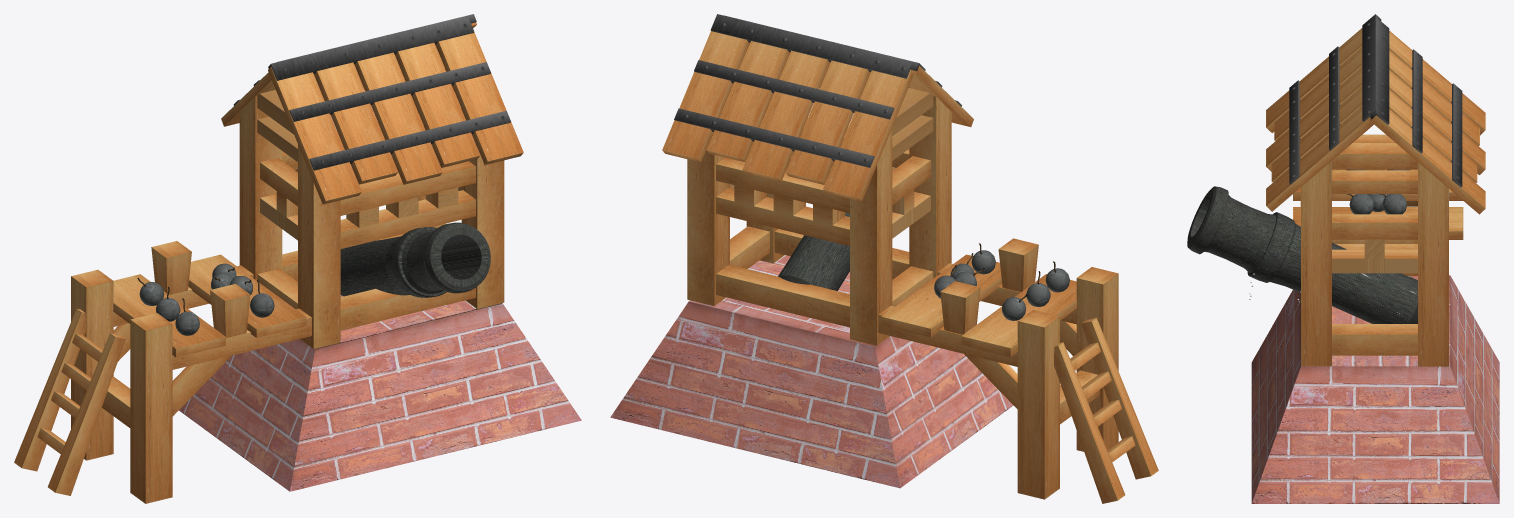
File: paota.fbx
3 views of the same model, side by side, from view 1: azimuth 30°, elevation 25°; view 2: azimuth 150°, elevation 25°; view 3: azimuth 270°, elevation 25° (orthographic).
Visible parts, largest first — view 1: paota:Box017, paota:Box006, paota:Cylinder044, paota:Box048, paota:Box038, paota:Box018, paota:Box028, paota:Box049, paota:Box030, paota:Box008, paota:Box057, paota:Box052 (+15 smaller); view 2: paota:Box017, paota:Box049, paota:Box028, paota:Box037, paota:Box029, paota:Box018, paota:Box025, paota:Box024, paota:Box022, paota:Box035, paota:Box021, paota:Box048 (+21 smaller); view 3: paota:Box017, paota:Cylinder044, paota:Box006, paota:Box030, paota:Box029, paota:Box039, paota:Box033, paota:Box024, paota:Box041, paota:Box040, paota:Box022, paota:Box025 (+12 smaller).
Boxes of the visible parts, x1,y1,x2,y2 form: paota:Box017: [179, 295, 581, 491]; paota:Box006: [268, 32, 523, 204]; paota:Cylinder044: [340, 222, 490, 297]; paota:Box048: [130, 313, 172, 503]; paota:Box038: [340, 161, 475, 248]; paota:Box018: [298, 144, 340, 348]; paota:Box028: [239, 96, 282, 280]; paota:Box049: [71, 269, 113, 460]; paota:Box030: [461, 109, 504, 308]; paota:Box008: [268, 15, 474, 80]; paota:Box057: [48, 333, 125, 495]; paota:Box052: [14, 308, 85, 471]; paota:Box017: [610, 255, 1013, 488]; paota:Box049: [1017, 310, 1059, 499]; paota:Box028: [850, 128, 892, 345]; paota:Box037: [716, 157, 849, 245]; paota:Box029: [687, 92, 729, 305]; paota:Box018: [909, 96, 951, 278]; paota:Box025: [823, 69, 913, 201]; paota:Box024: [662, 31, 749, 162]; paota:Box022: [742, 50, 830, 181]; paota:Box035: [716, 264, 849, 327]; paota:Box021: [785, 60, 870, 184]; paota:Box048: [1076, 267, 1118, 451]; paota:Box017: [1251, 275, 1499, 503]; paota:Cylinder044: [1187, 186, 1417, 323]; paota:Box006: [1266, 28, 1373, 211]; paota:Box030: [1301, 161, 1331, 366]; paota:Box029: [1418, 162, 1448, 366]; paota:Box039: [1332, 214, 1417, 273]; paota:Box033: [1332, 324, 1417, 355]; paota:Box024: [1370, 109, 1485, 214]; paota:Box041: [1332, 170, 1417, 193]; paota:Box040: [1332, 143, 1417, 169]; paota:Box022: [1389, 70, 1485, 174]; paota:Box025: [1389, 31, 1485, 135].
Bounding box in the file's own units: 1120 × 836 × 639.
